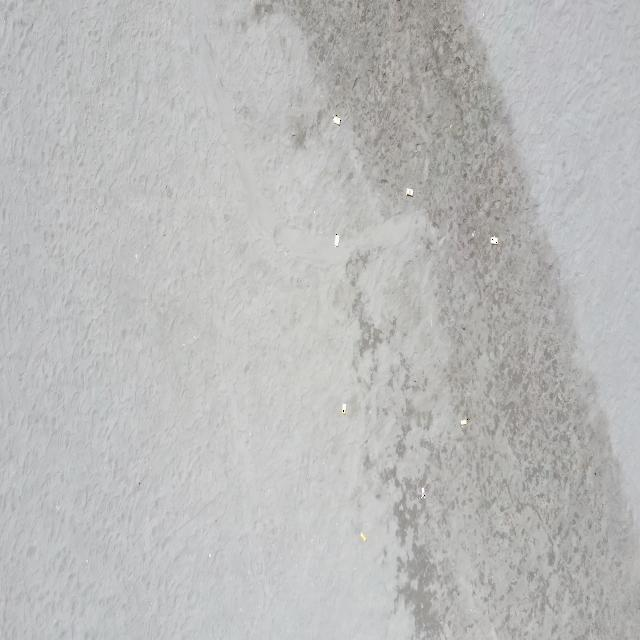retort-pouch: (490, 235, 499, 246), (333, 115, 341, 127), (460, 418, 468, 428), (406, 187, 413, 198), (335, 234, 340, 249), (342, 402, 347, 416), (360, 532, 367, 542), (421, 487, 425, 498)
